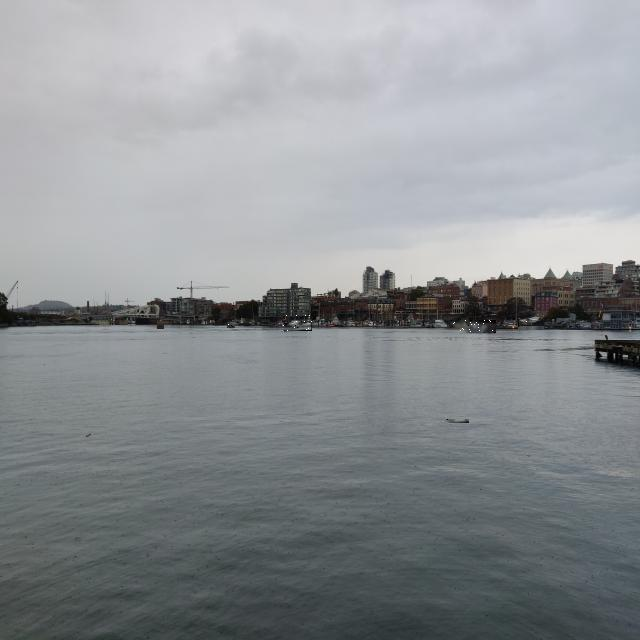aircraft: (282, 315, 312, 331), (460, 320, 496, 333), (518, 318, 544, 330)
boat: (450, 318, 473, 328), (432, 319, 447, 328), (157, 321, 164, 329), (227, 322, 235, 328)
debris: (445, 419, 469, 423)
